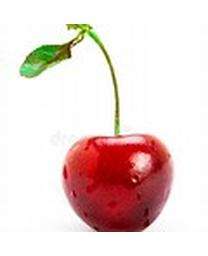cherry: (62, 134, 174, 232)
